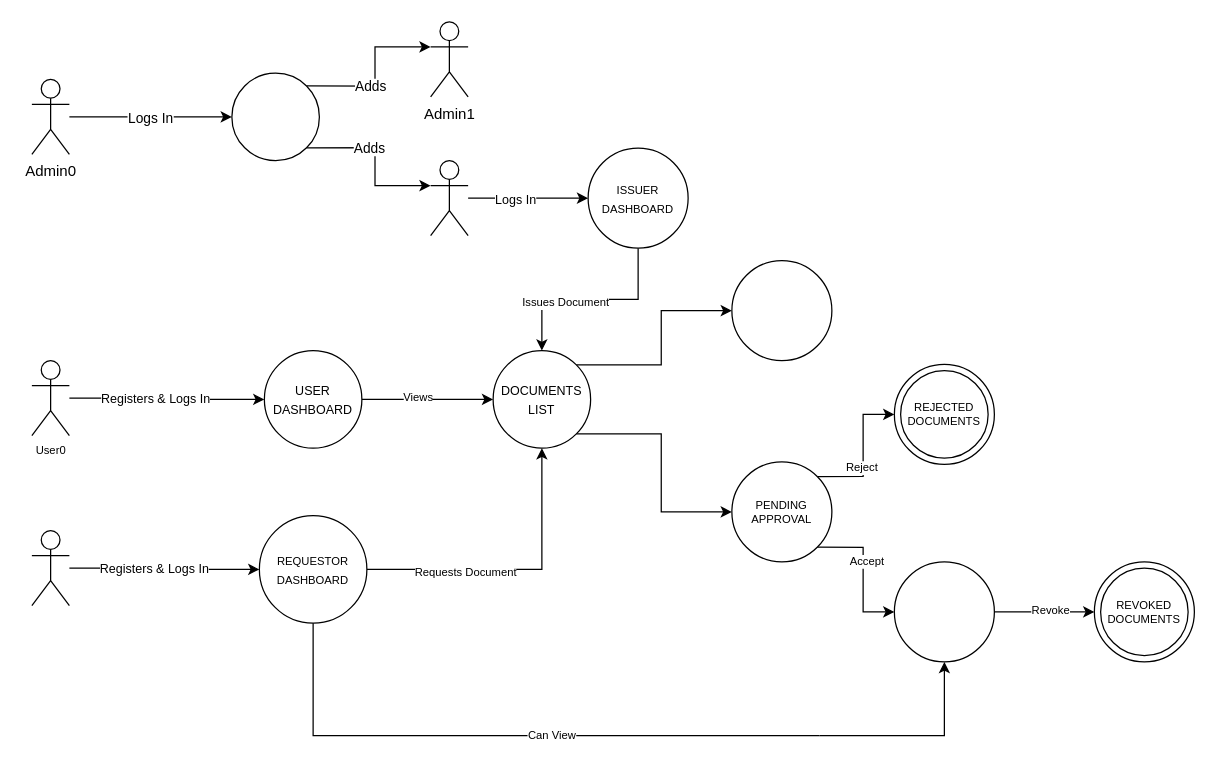
Image size: 1216x768. Some labels were removed from this diagram. Each missing label, with the centre of its shape:
ACCEPTED DOCUMENTS: point (943, 611)
ADMIN DASHBOARD: point (275, 116)
Issuer0: point (448, 197)
Requestor0: point (50, 567)
VIEW ISSUED DOCUMENT: point (781, 310)
